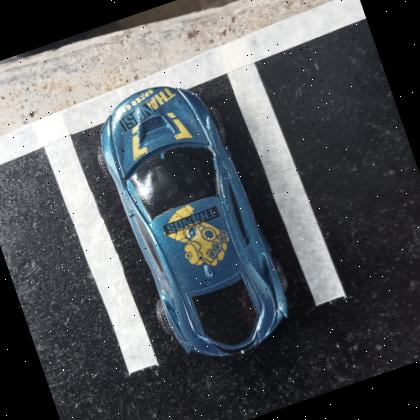Car: (99, 86, 289, 360)
